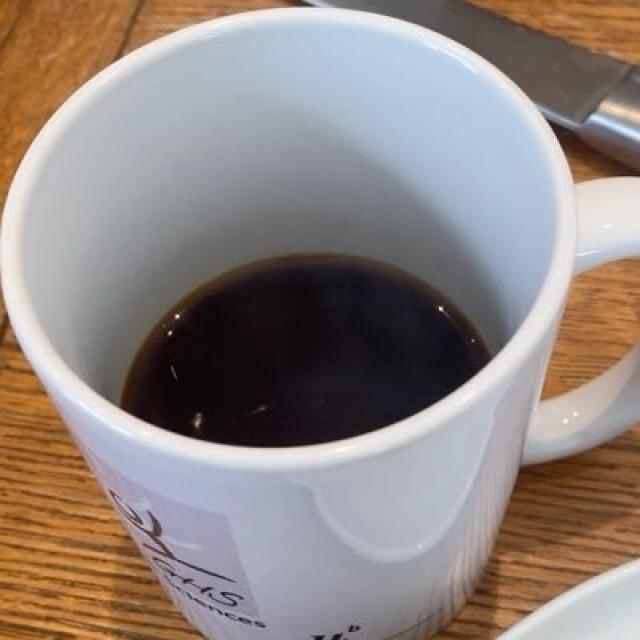coffee: (122, 255, 483, 442)
